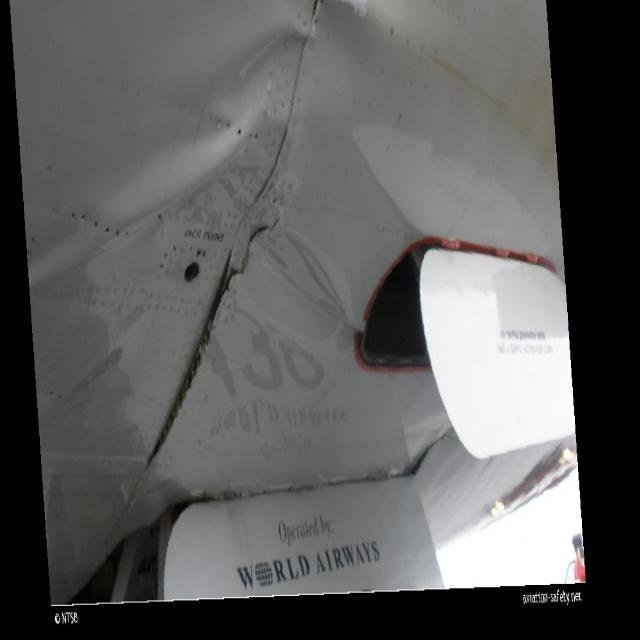crack: (217, 216, 281, 303)
dent: (27, 104, 256, 282)
